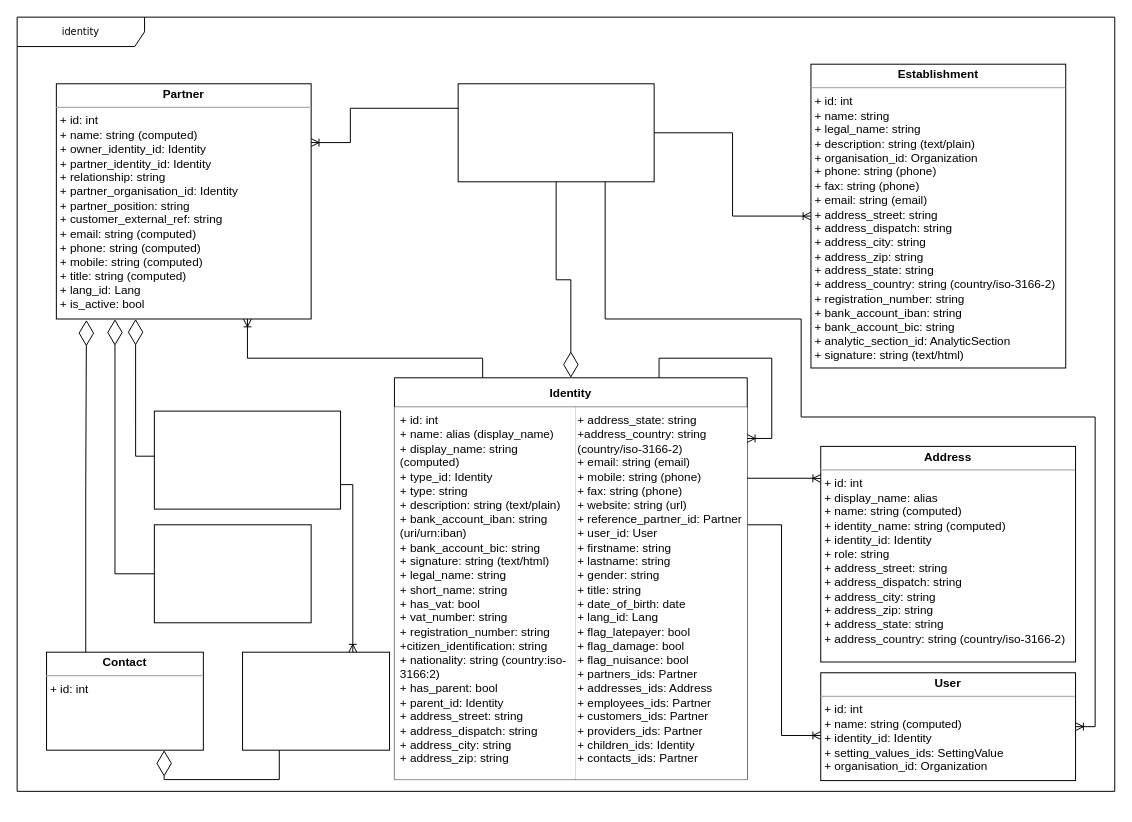
Some shapes in this 1132 by 822 pixel diagram are drawn without their labels. Here are the shapes that lost their labels. From the top down, the box of each, then its label:
(457, 83, 654, 182): Organization + id: int
(153, 410, 341, 509): sale\Customer + id: int + fare_class: string (computed) + nature_id
(153, 524, 311, 623): hr\Employee + id: int
(242, 651, 390, 750): sale\Contact + id: int + customer _id: Customer
